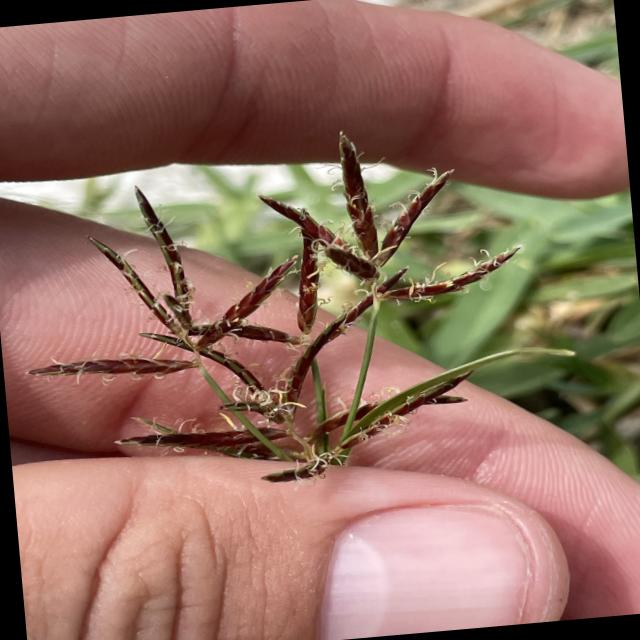cyperus: (1, 108, 556, 518)
